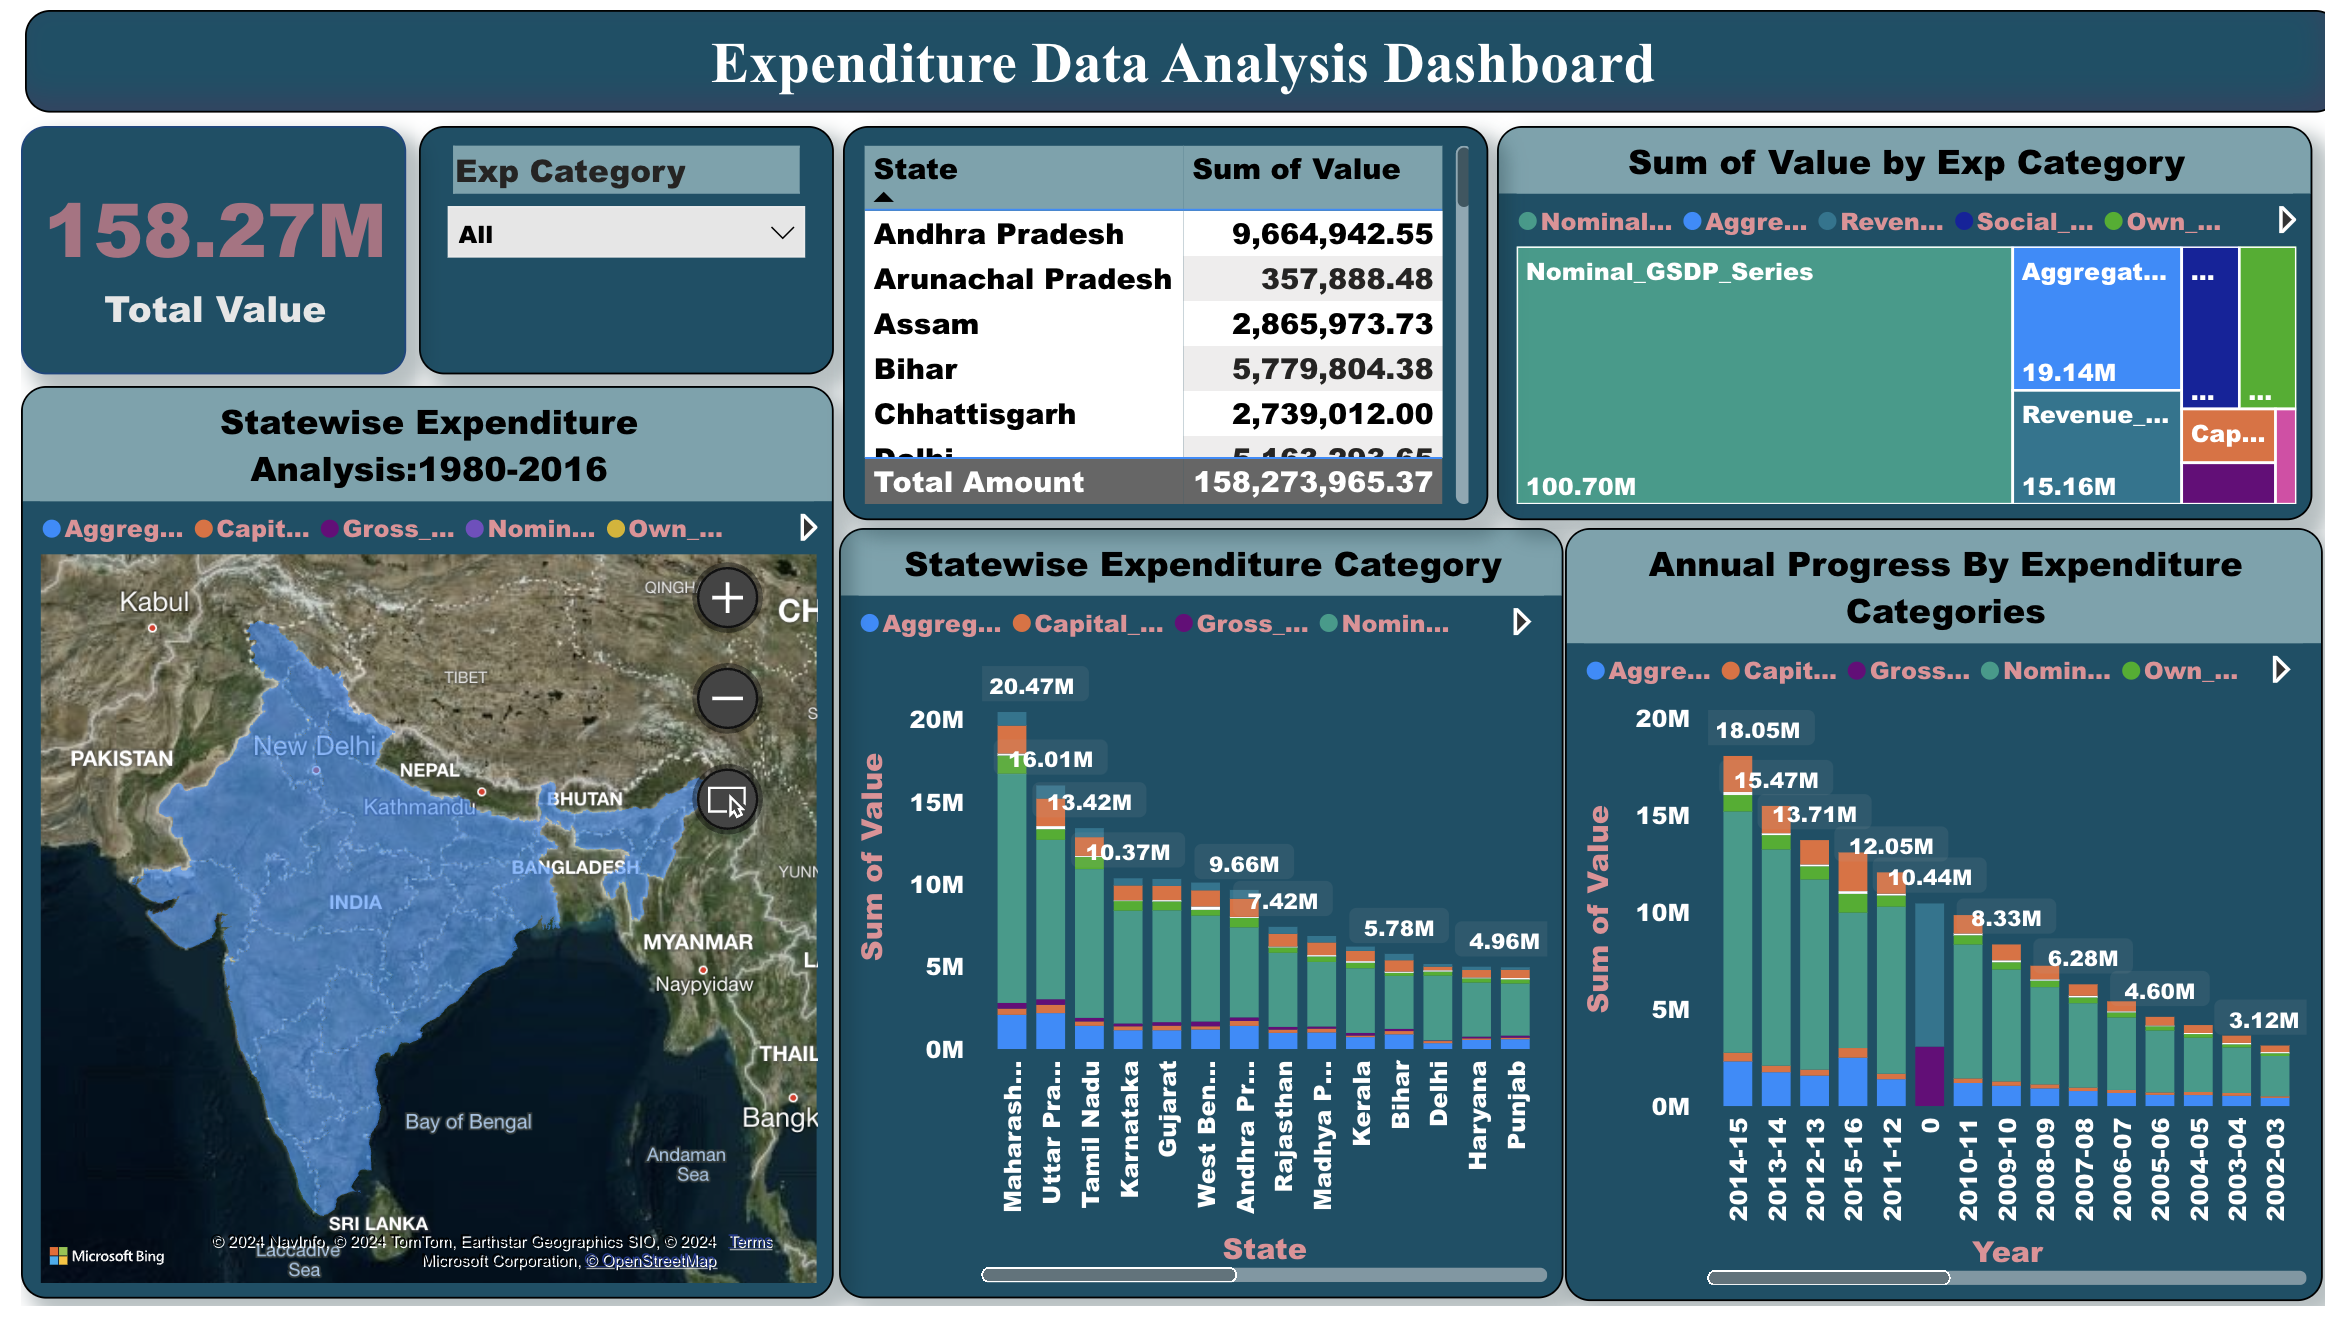

What the dashboard file says about the page in this screenshot:
{"tool":"powerbi","page":{"name":"dashboard","canvas":[1280,720],"ordinal":0},"visuals":[{"type":"columnChart","title":"Statewise Expenditure Category","fields":{"Category":["expenditure1.State"],"Y":["Sum(expenditure1.Value)"],"Series":["expenditure1.Exp Category"]},"box":[454.7,288,402.5,427.8],"z":0},{"type":"treemap","fields":{"Group":["expenditure1.Exp Category"],"Values":["Sum(expenditure1.Value)"]},"box":[820.2,64,453.1,218.9],"z":1000},{"type":"slicer","fields":{"Values":["expenditure1.Exp Category"]},"box":[220.6,64,230.7,138.1],"z":2000},{"type":"card","fields":{"Values":["Sum(expenditure1.Value)"]},"box":[0,64,213.9,138.1],"z":3000},{"type":"columnChart","title":"Annual Progress By Expenditure Categories","fields":{"Category":["expenditure1.Year"],"Y":["Sum(expenditure1.Value)"],"Series":["expenditure1.Exp Category"]},"box":[857.3,288,421.1,429.5],"z":4000},{"type":"filledMap","title":"Statewise Expenditure Analysis:1980-2016","fields":{"Category":["expenditure1.State"],"X":["Min(expenditure1.Year)"],"Series":["expenditure1.Exp Category"]},"box":[0,208.8,451.4,506.9],"z":5000},{"type":"tableEx","fields":{"Values":["expenditure1.State","Sum(expenditure1.Value)"]},"box":[456.4,64,358.7,218.9],"z":6000},{"type":"textbox","box":[1.7,0,1286.7,57],"z":7000}]}

Visuals, with their boxes in screenshot pixels (x1, y1, x2, y2), scaled from the page's 1280x720 canvas onto the 2340x1322 screenshot:
"Statewise Expenditure Category" columnChart: {"left": 831, "top": 529, "right": 1567, "bottom": 1314}
treemap - expenditure1.Exp Category x Sum(expenditure1.Value): {"left": 1499, "top": 118, "right": 2328, "bottom": 519}
slicer - expenditure1.Exp Category: {"left": 403, "top": 118, "right": 825, "bottom": 371}
card - Sum(expenditure1.Value): {"left": 0, "top": 118, "right": 391, "bottom": 371}
"Annual Progress By Expenditure Categories" columnChart: {"left": 1567, "top": 529, "right": 2337, "bottom": 1317}
"Statewise Expenditure Analysis:1980-2016" filledMap: {"left": 0, "top": 383, "right": 825, "bottom": 1314}
tableEx - expenditure1.State x Sum(expenditure1.Value): {"left": 834, "top": 118, "right": 1490, "bottom": 519}
textbox: {"left": 3, "top": 0, "right": 2339, "bottom": 105}
